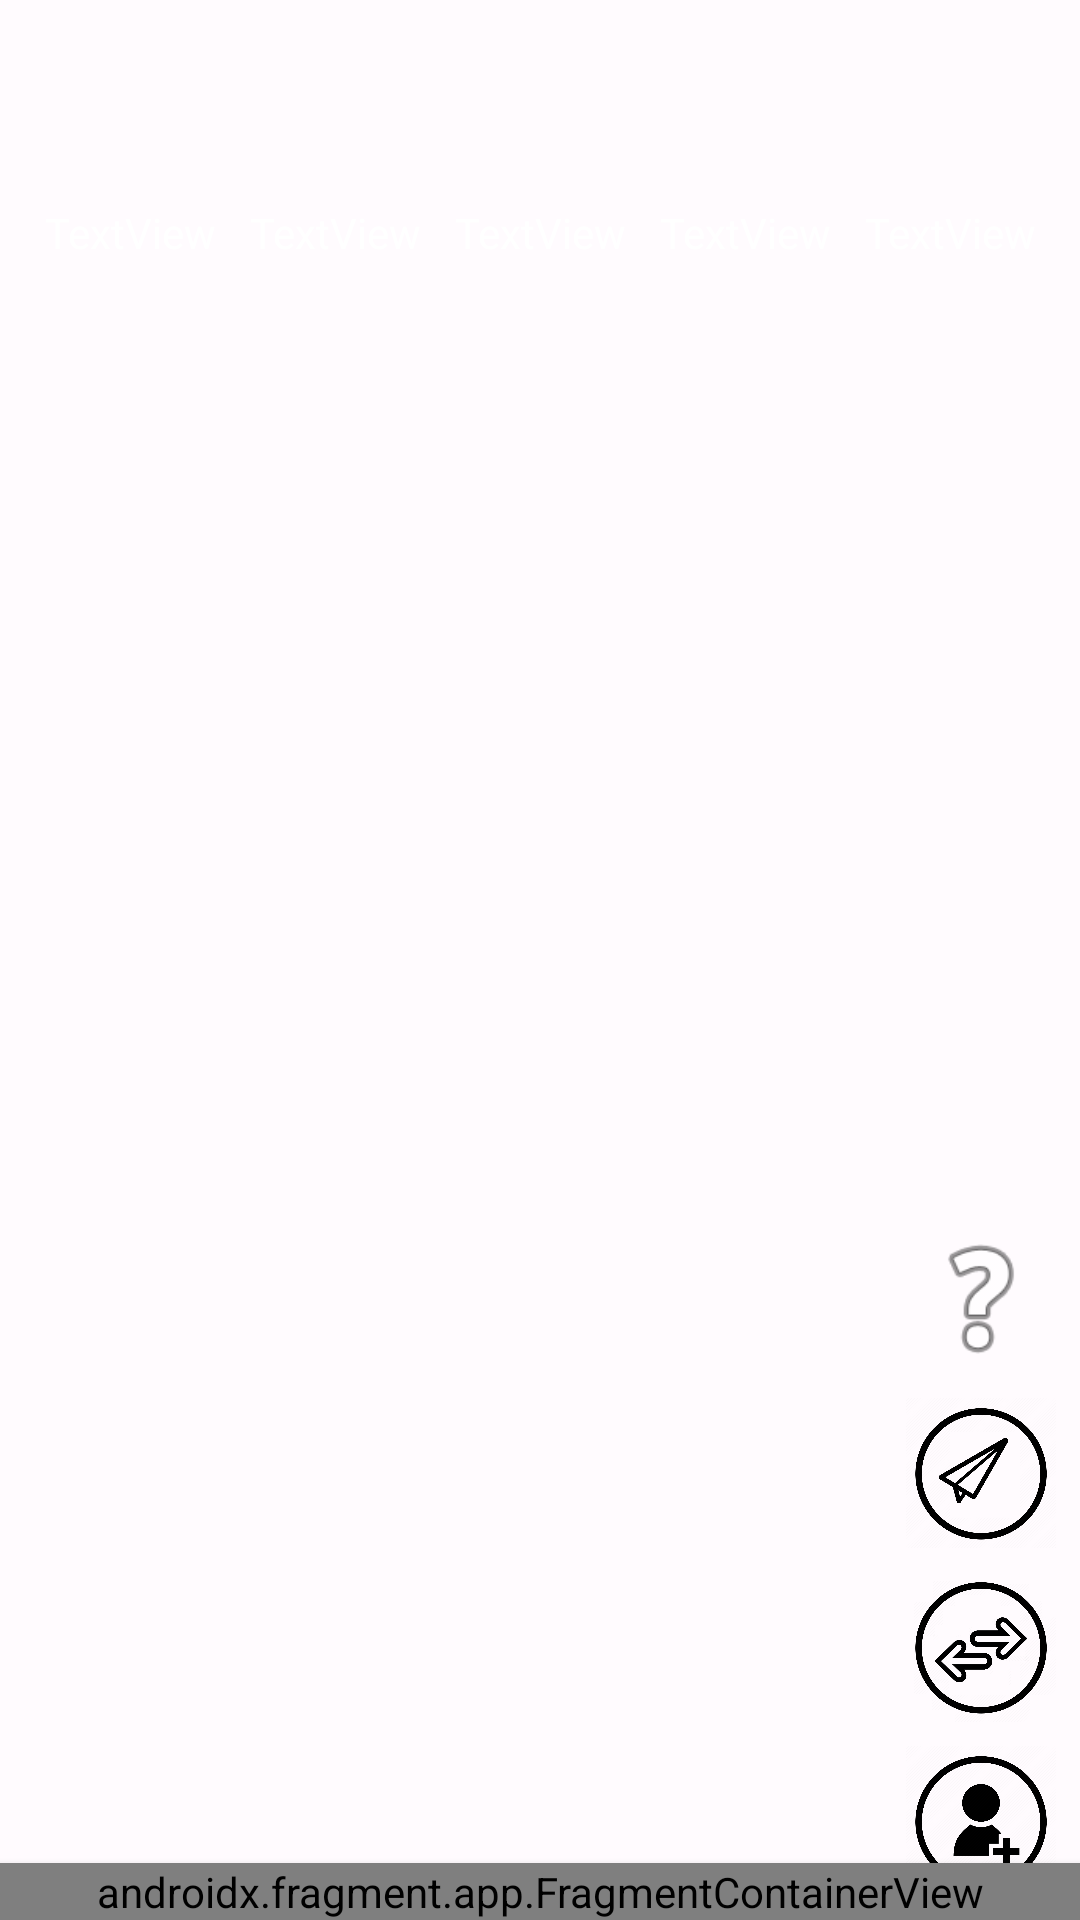

Screen size 1080x1920. Icon name, then its box in pixels as bbox=(x1, y1, x2, y2):
help: bbox=(948, 1245, 1014, 1353)
send: bbox=(915, 1408, 1047, 1540)
Switch View: bbox=(915, 1582, 1047, 1714)
